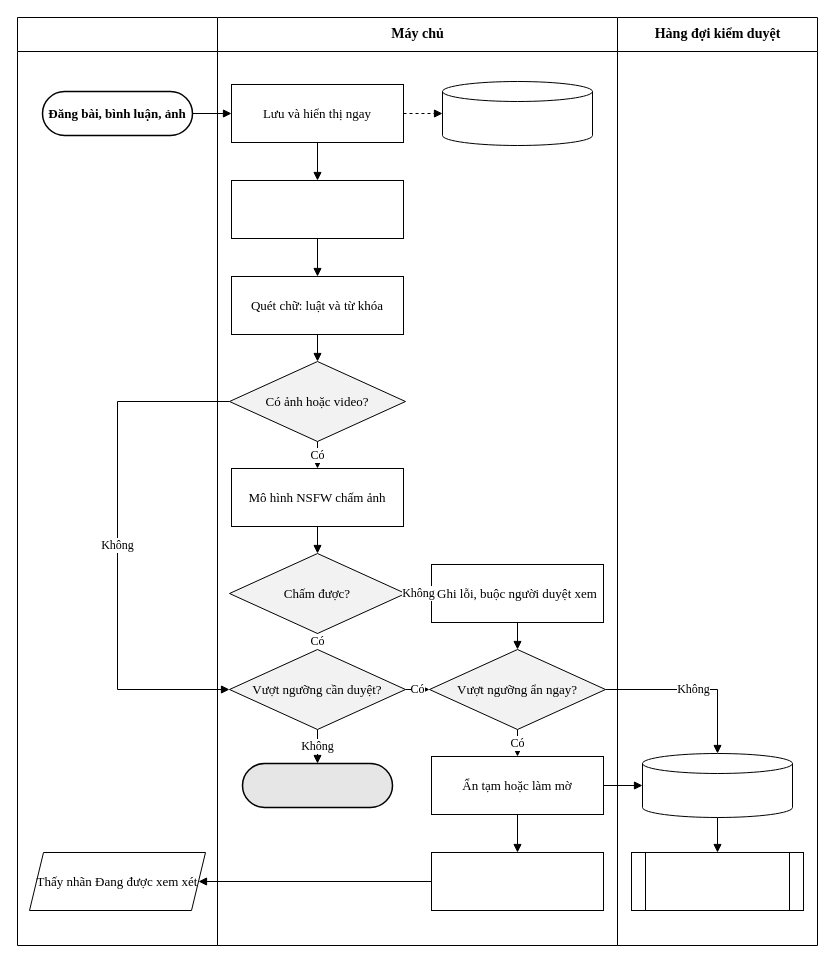
Image size: 835x963. Some labels were removed from this diagram. The shapes that lost their labels are listed below. From the top down, each one's box as (x1, y1, x2, y2) in pixels, then its label:
(442, 80, 592, 146): Bảng Post, Comment
(230, 180, 404, 238): Tạo việc quét chạy nền
(16, 16, 218, 946): Người đăng
(241, 762, 393, 808): Giữ nguyên, lưu kết quả
(642, 752, 792, 818): Thêm mục, xếp theo ưu tiên
(430, 852, 604, 910): Báo người đăng: đang xem xét
(630, 852, 804, 910): Người duyệt xử lý (C1-3)
